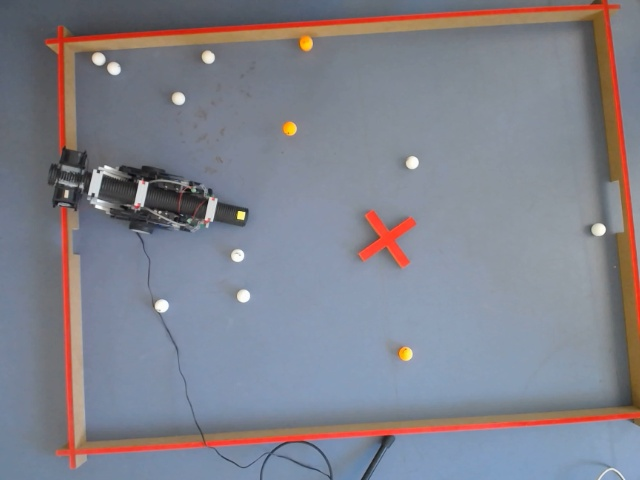orange: (280, 120, 299, 137), (299, 34, 313, 52), (399, 346, 412, 362)
white: (590, 221, 608, 239), (90, 50, 107, 68), (229, 246, 246, 264), (170, 90, 188, 107), (200, 49, 217, 66), (235, 287, 252, 304), (106, 60, 122, 77), (404, 155, 420, 171), (154, 298, 169, 313), (235, 209, 248, 223)
